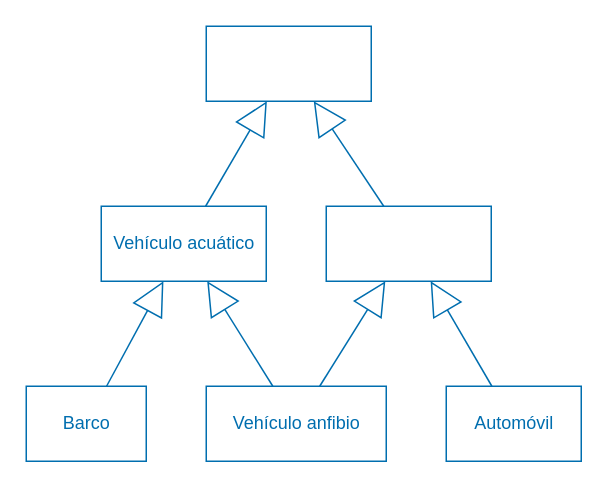
This 608x488 diagram has some shape labels left out. Here are the shapes that lost their labels. From the top down, the centre of each, then its label:
[288,63]: Vehículo
[408,243]: Vehículo terrestre
